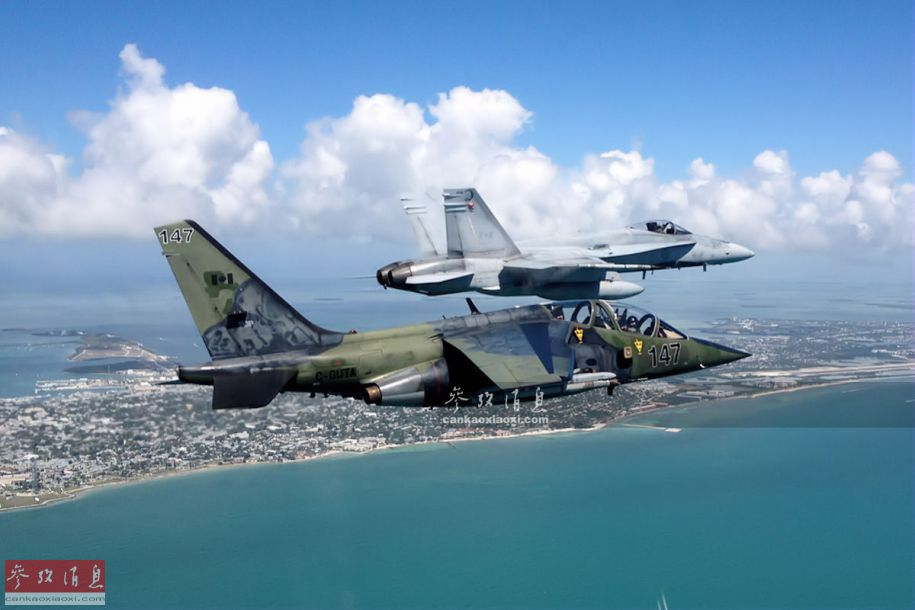airplane: (143, 225, 757, 417), (358, 170, 755, 305)
